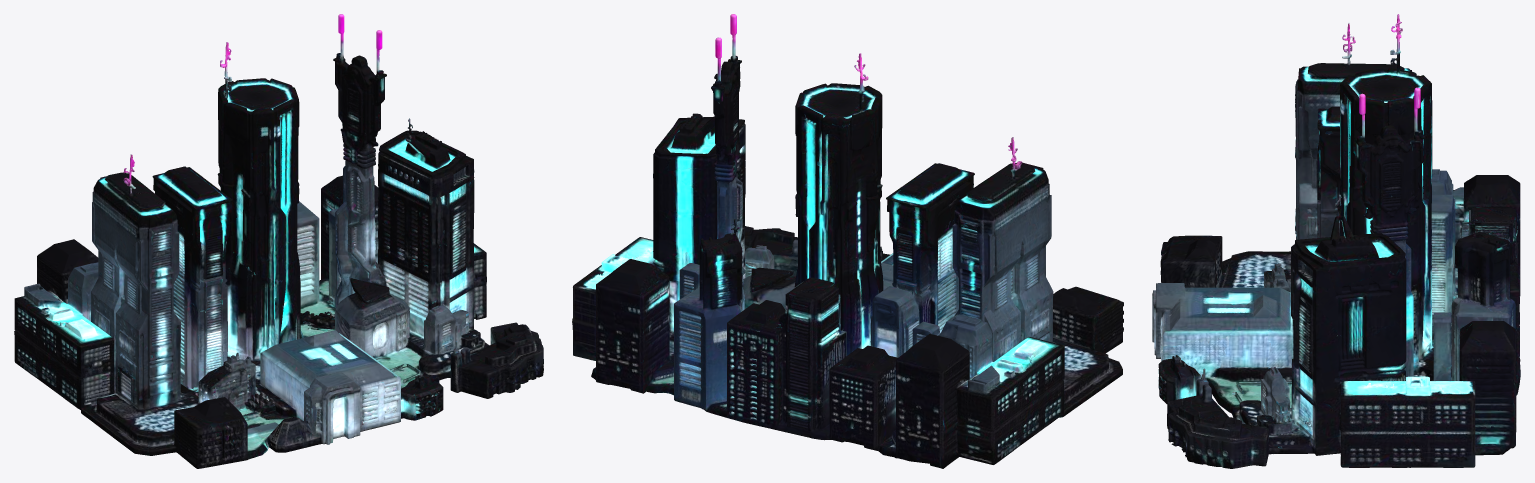
File: b2_bg_skyline_rt.glb
3 views of the same model, side by side, from view 1: azimuth 30°, elevation 25°; view 2: azimuth 150°, elevation 25°; view 3: azimuth 270°, elevation 25° (orthographic). The views are drawn at different scales.
Bounding box in the file's own units: 1.9 × 1.43 × 1.42.
Materials: 1 (1 with a texture image).
